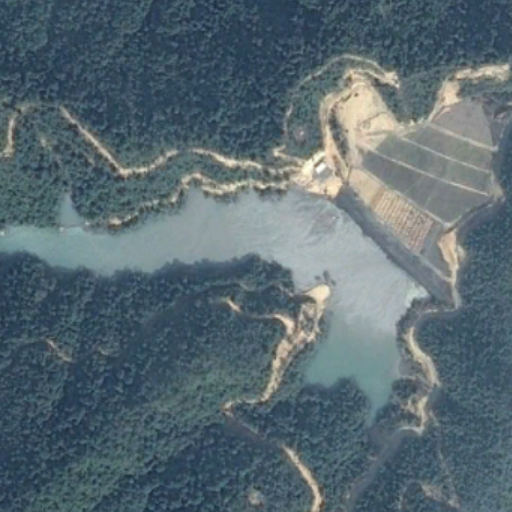tp: (9, 101, 498, 423)
